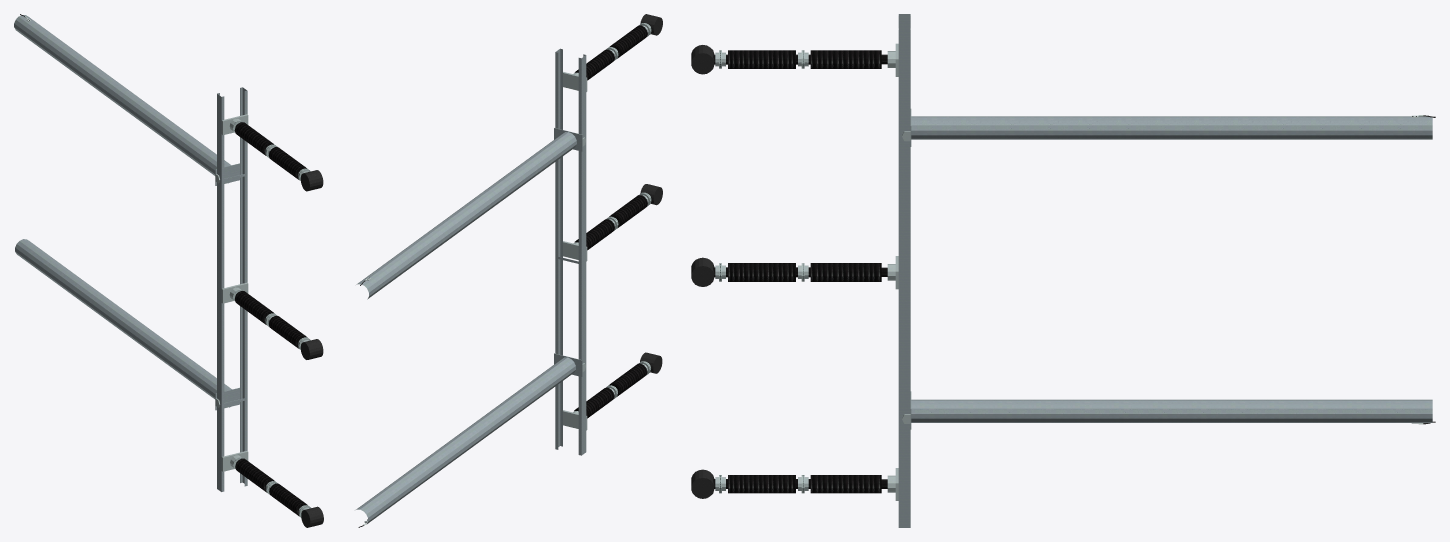
The model's file is ftzbzsb-zzjyz-0162-geode.glb.
The picture shows the model from 3 angles, left to right: view 1: azimuth 30°, elevation 25°; view 2: azimuth 150°, elevation 25°; view 3: azimuth 270°, elevation 25°; orthographic projection. The views are drawn at different scales.
Visible parts, largest first — view 1: Node; view 2: Node; view 3: Node.
Boxes of the visible parts, box(x1,y1,x2,y2) form: Node: box(14, 14, 323, 527); Node: box(356, 14, 662, 527); Node: box(691, 14, 1435, 527).
Size of the model in its own units: 0.5293 by 7.03 by 9.53.
7 materials, 7 textured.
